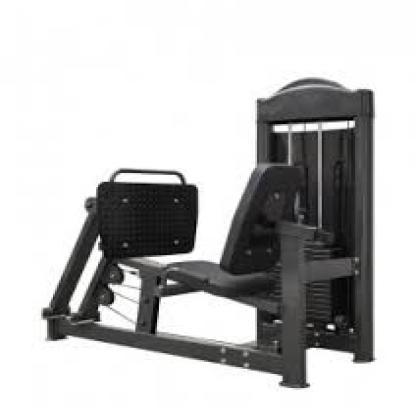leg press: (36, 73, 394, 395)
